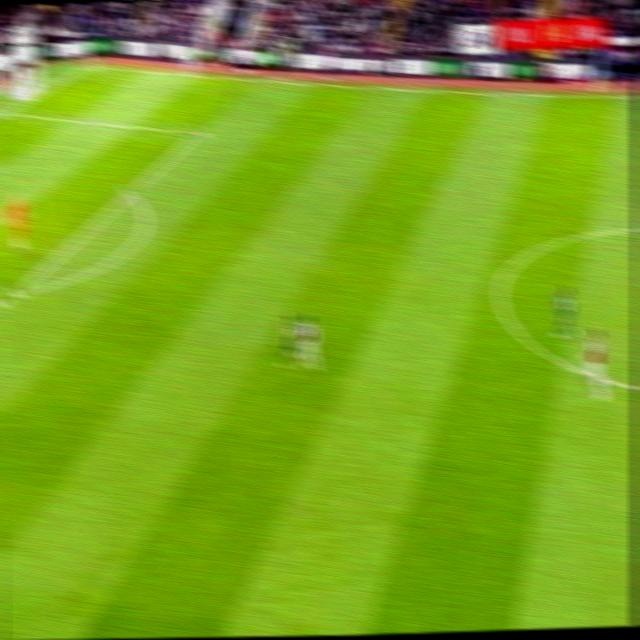bigarea_top_inner: (187, 121, 210, 141)
bigarea_top_outter: (0, 105, 17, 119)
bottom_arc_area_intersection: (5, 281, 26, 302)
corner: (78, 59, 101, 73)
top_arc_area_intersection: (118, 182, 140, 202)
